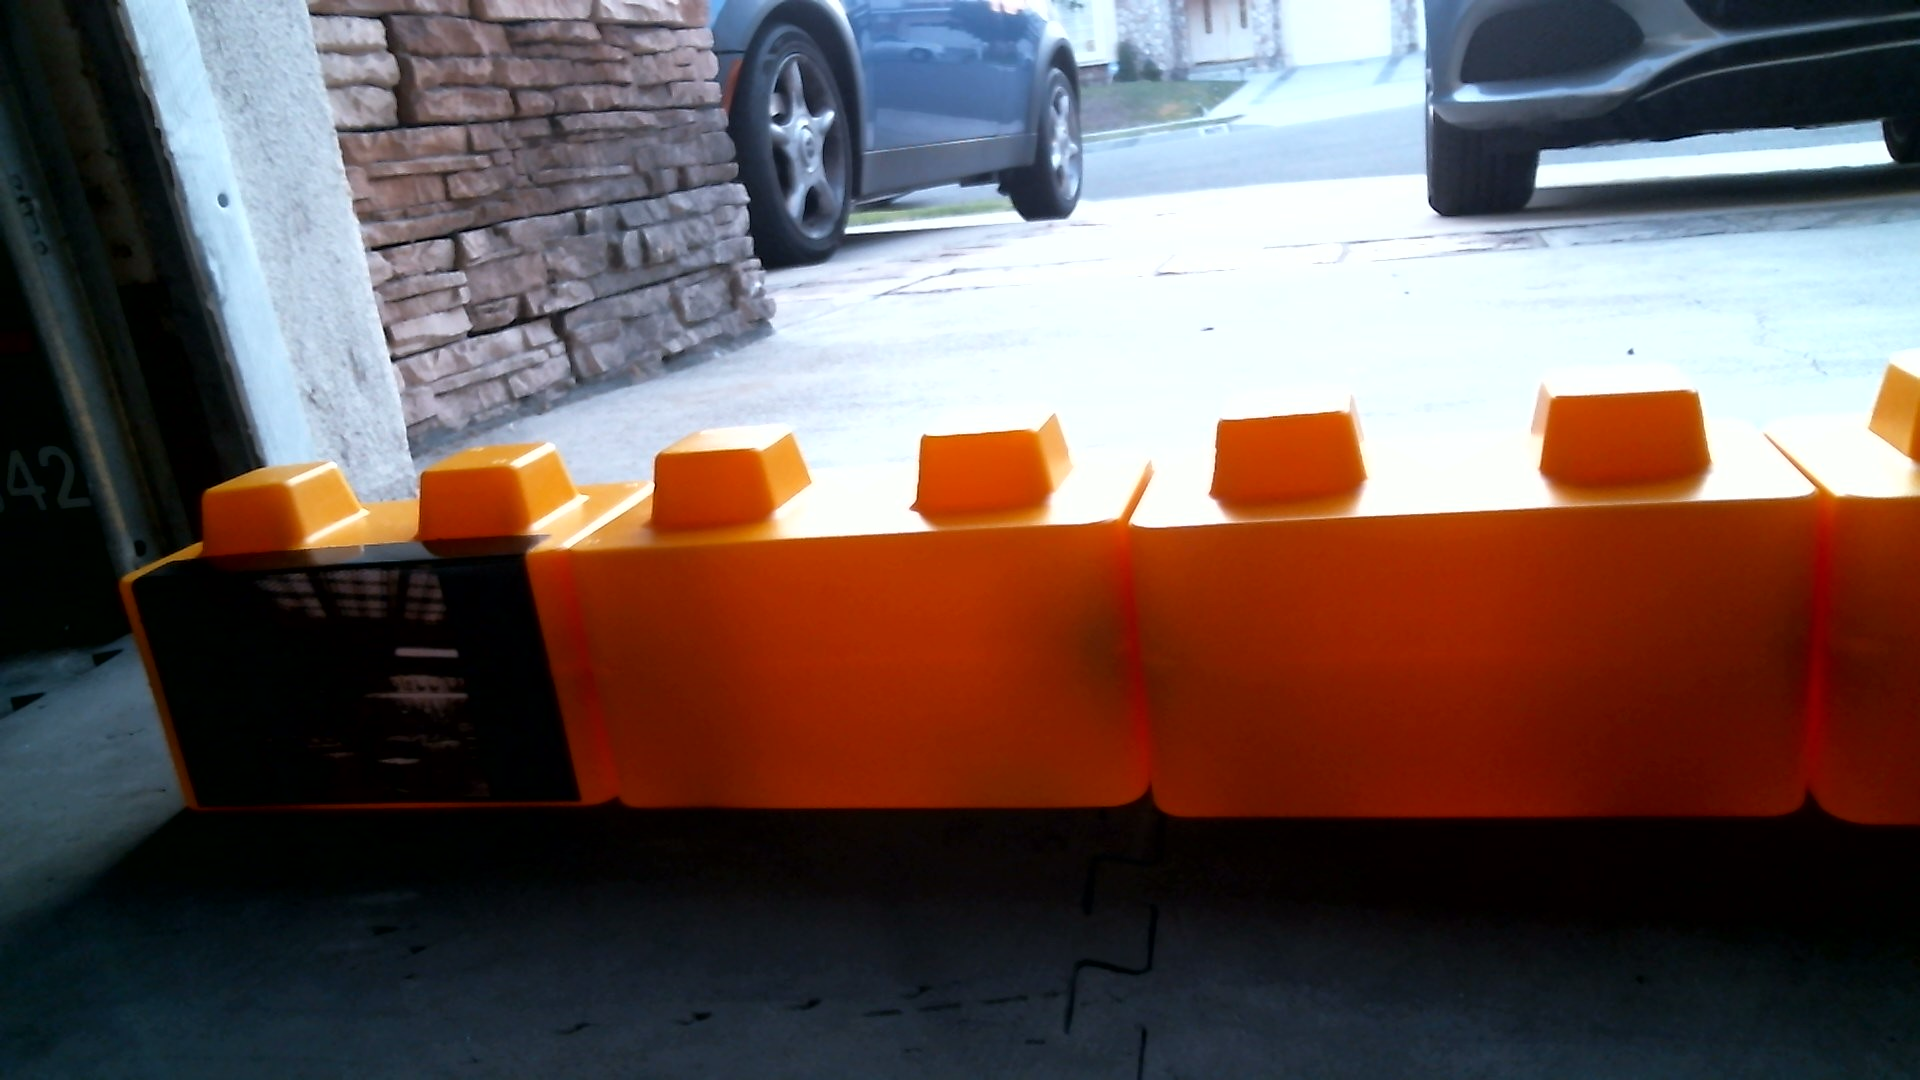left: (115, 328, 1905, 847)
